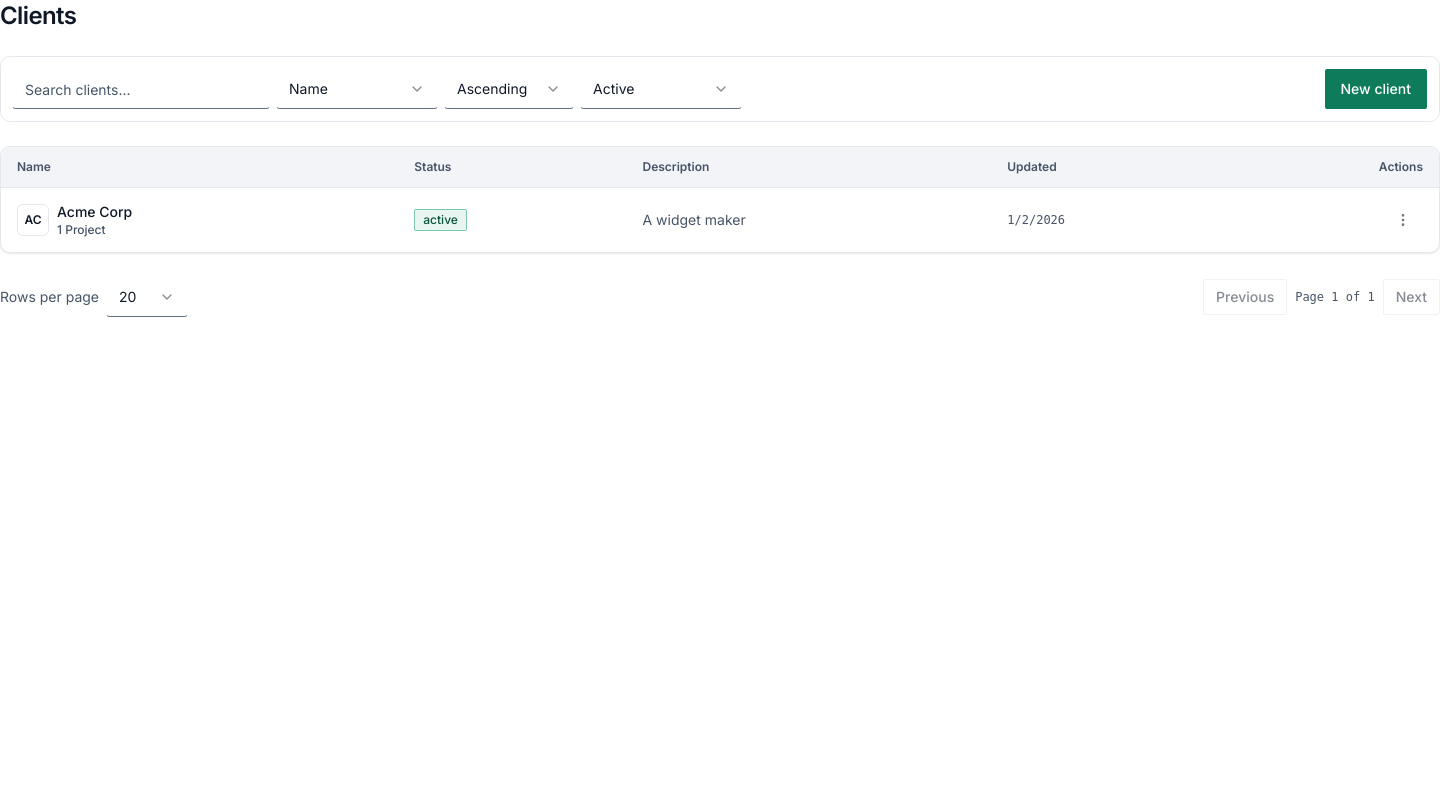
Test case: ClientsPage › row click / keyboard opens Edit (Clients has no detail page) › opens the edit form when an active row is clicked
Click the button "AC Acme Corp 1 Project active A widget maker 1/2/2026" at (720, 219), box [1,187,1439,252]
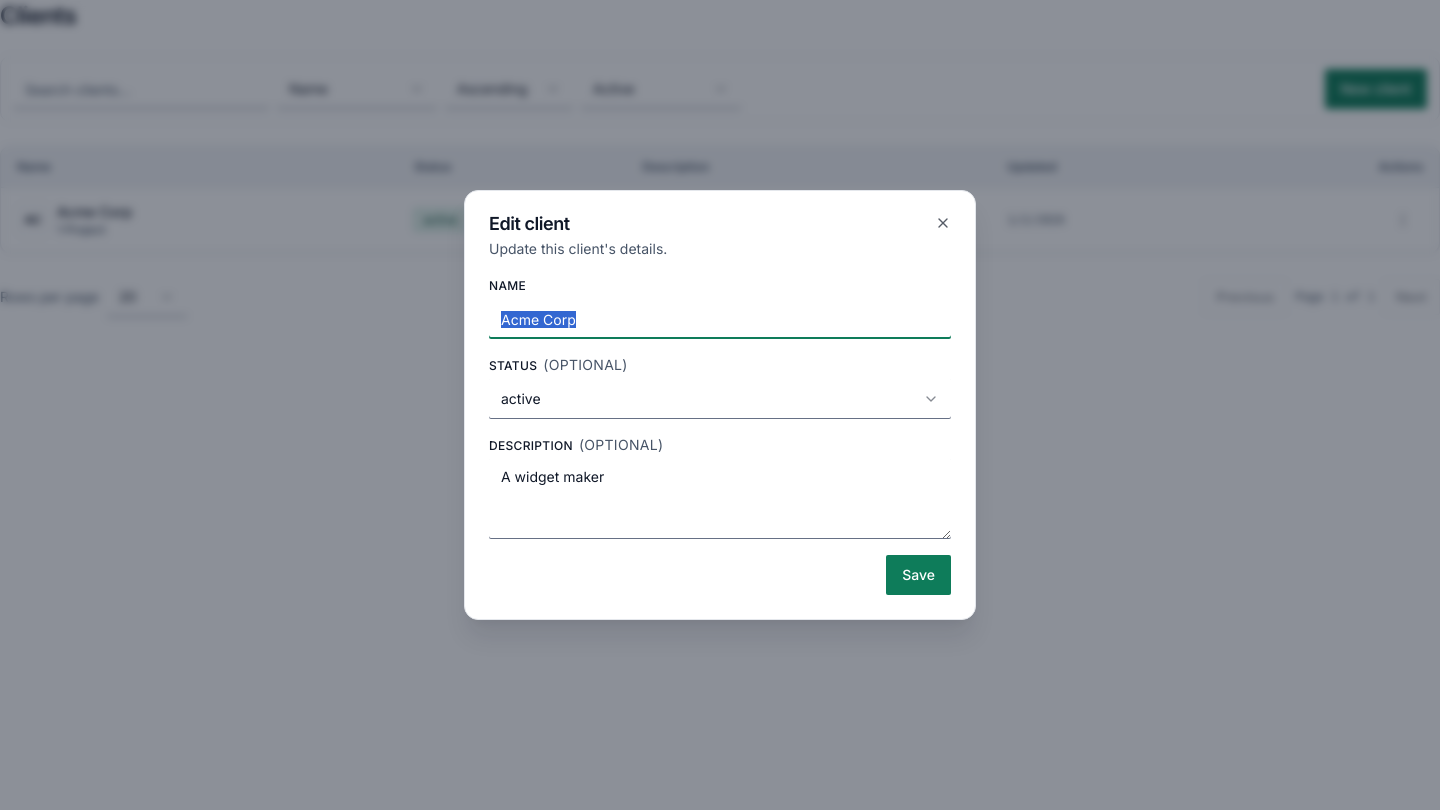
Expected: the dialog is shown, [464,190,976,620]
Expected: the field showing "Acme Corp" is shown, [489,299,951,339]
